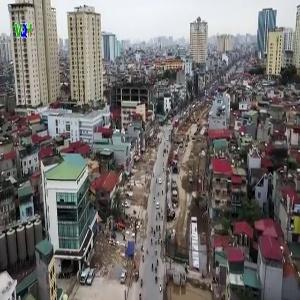drone: (59, 240, 109, 290)
